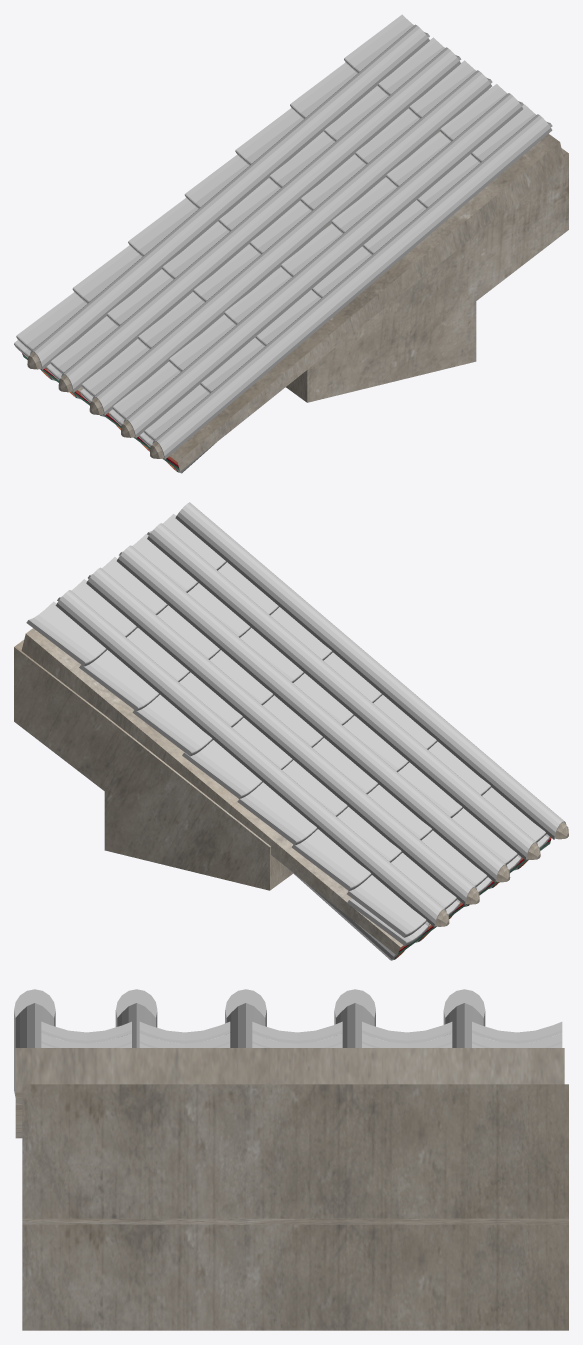
Rendered from SM_Roof_1.fbx.
3 renders of one model, top to bottom at view 1: azimuth 30°, elevation 25°; view 2: azimuth 150°, elevation 25°; view 3: azimuth 270°, elevation 25°, orthographic. The views are drawn at different scales.
Visible parts, largest first — view 1: SM_Roof_1; view 2: SM_Roof_1; view 3: SM_Roof_1.
Boxes of the visible parts, box(x1,y1,x2,y2) form: SM_Roof_1: box(14, 14, 568, 473); SM_Roof_1: box(14, 502, 568, 960); SM_Roof_1: box(14, 989, 568, 1330).
Bounding box in the file's own units: 336 × 222 × 218.
